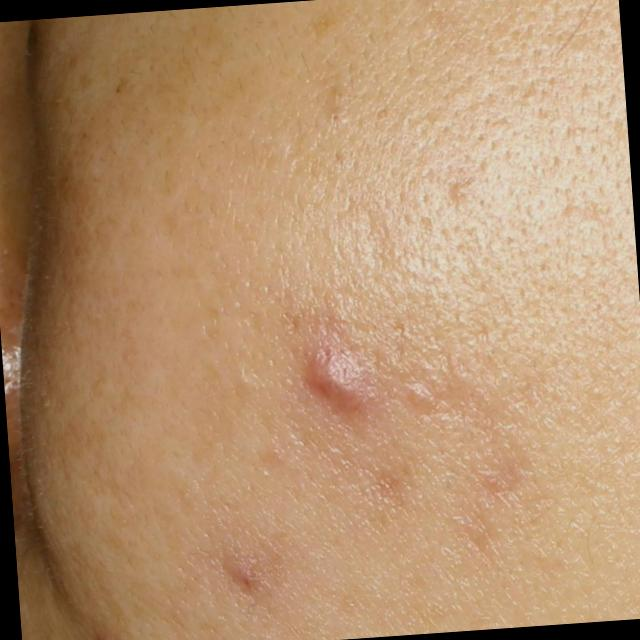nodule: (278, 326, 382, 434)
